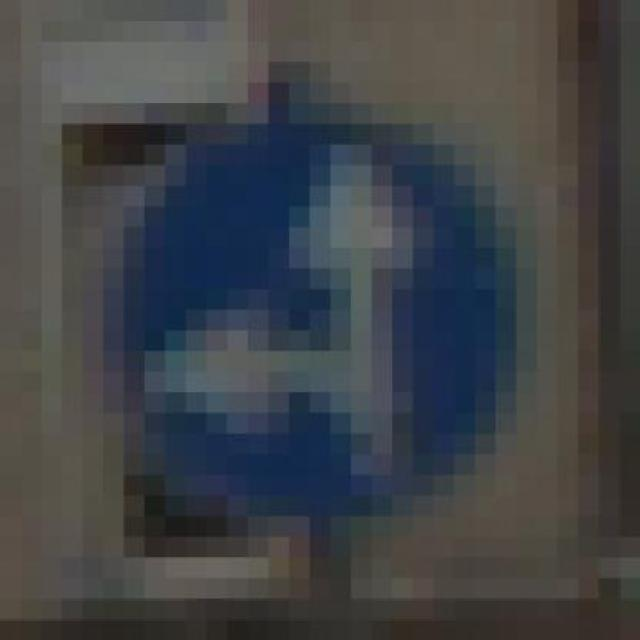Go straight or turn left: (62, 103, 558, 579)
